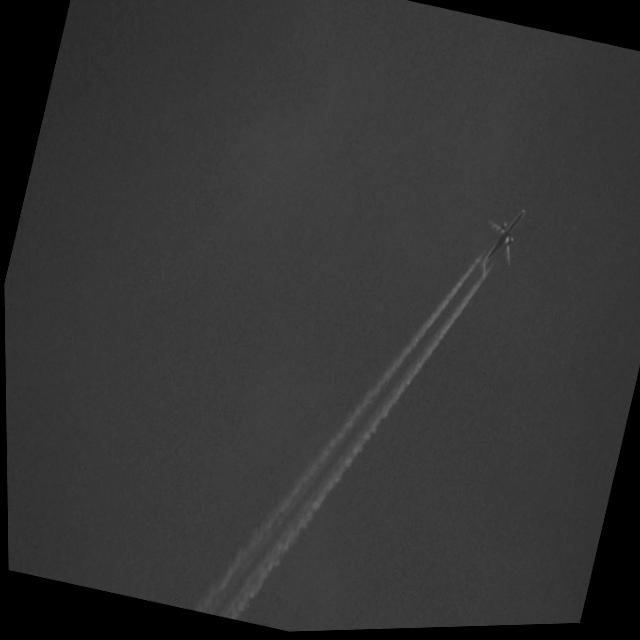aeroplane: (466, 200, 527, 290)
